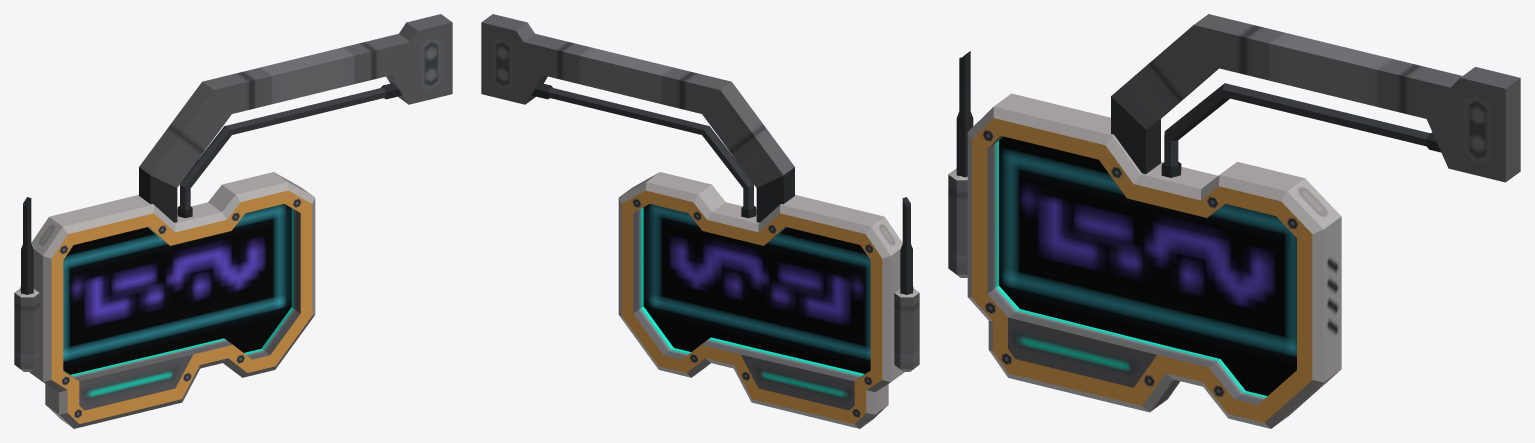
File: SM_Prop_Monitor_04.fbx
The picture shows the model from 3 angles, left to right: view 1: azimuth 30°, elevation 25°; view 2: azimuth 150°, elevation 25°; view 3: azimuth 330°, elevation 25°; orthographic projection. The views are drawn at different scales.
Visible parts, largest first — view 1: SM_Prop_Monitor_04; view 2: SM_Prop_Monitor_04; view 3: SM_Prop_Monitor_04.
Boxes of the visible parts, <box> form: SM_Prop_Monitor_04: <box>14,14,452,428</box>; SM_Prop_Monitor_04: <box>481,14,919,428</box>; SM_Prop_Monitor_04: <box>948,14,1520,428</box>.
Bounding box in the file's own units: 127 × 88.19 × 9.75.
